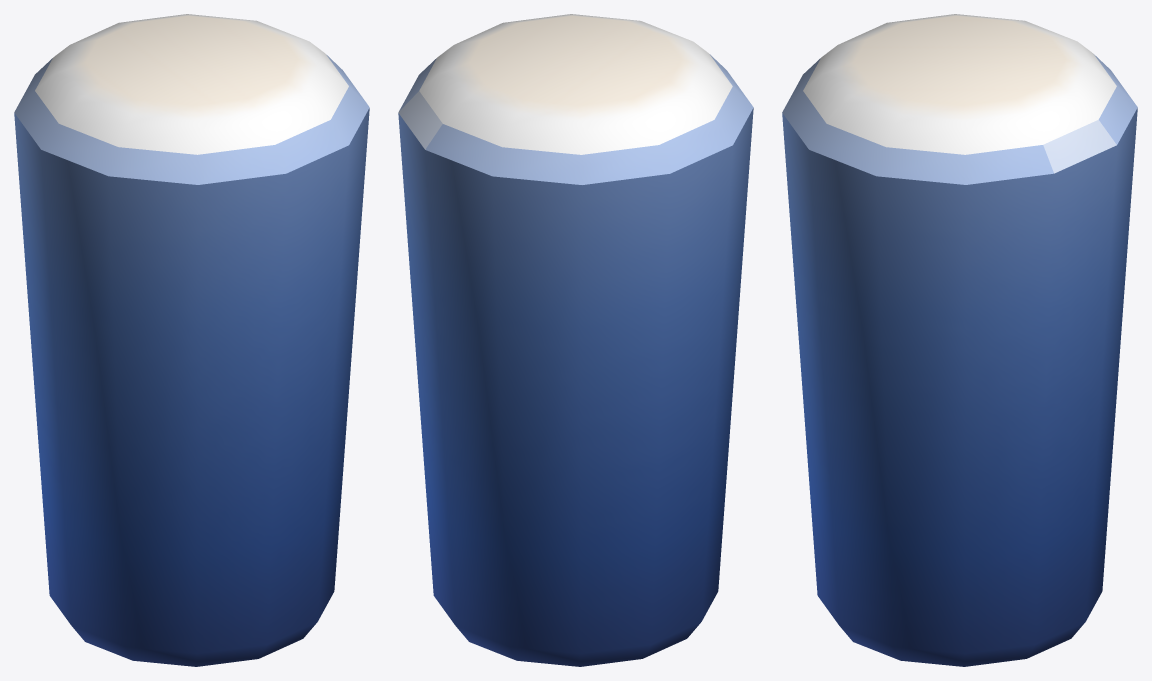
File: m_LatteMacchiato01.fbx
The picture shows the model from 3 angles, left to right: view 1: azimuth 30°, elevation 25°; view 2: azimuth 150°, elevation 25°; view 3: azimuth 270°, elevation 25°; orthographic projection.
Visible parts, largest first — view 1: m_LatteMacchiato01; view 2: m_LatteMacchiato01; view 3: m_LatteMacchiato01.
Boxes of the visible parts, bbox=[...] form: m_LatteMacchiato01: bbox=[14, 14, 369, 666]; m_LatteMacchiato01: bbox=[398, 14, 753, 666]; m_LatteMacchiato01: bbox=[782, 14, 1137, 666].
Bounding box in the file's own units: 7.97 × 13.69 × 7.98.
